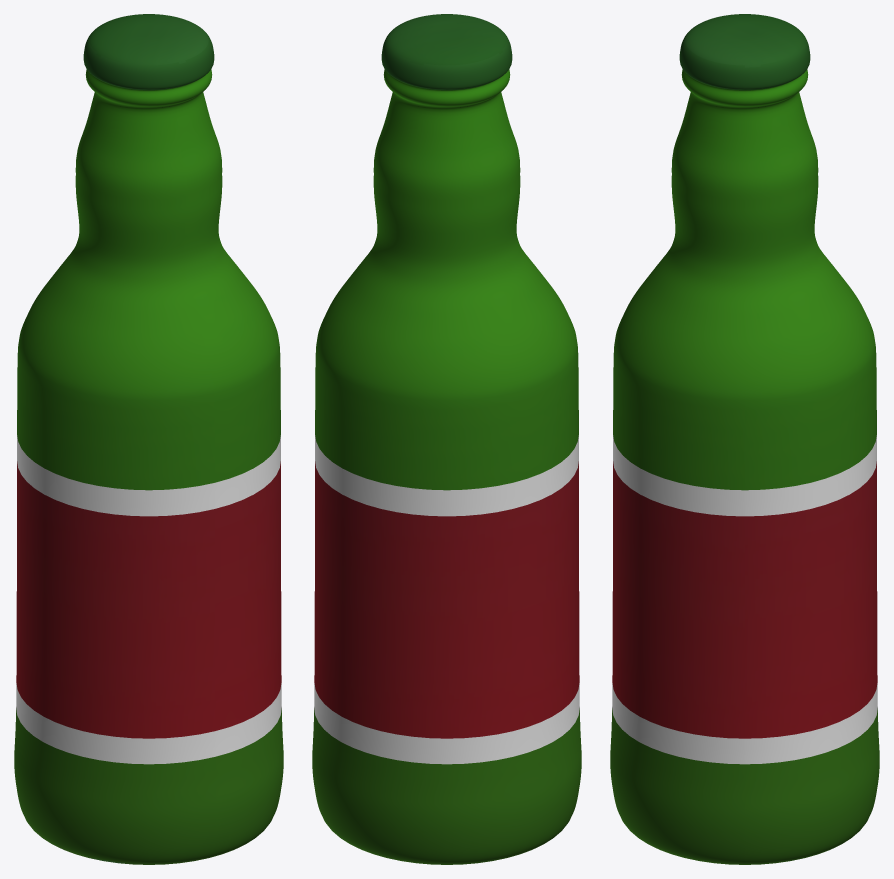
Rendered from GlassBottle2.glb.
The picture shows the model from 3 angles, left to right: view 1: azimuth 30°, elevation 25°; view 2: azimuth 150°, elevation 25°; view 3: azimuth 270°, elevation 25°; orthographic projection.
Visible parts, largest first — view 1: beer_green; view 2: beer_green; view 3: beer_green.
Part boxes in pixels (bbox=[...]): beer_green: bbox=[14, 14, 283, 864]; beer_green: bbox=[312, 14, 581, 864]; beer_green: bbox=[610, 14, 879, 864].
Bounding box in the file's own units: 0.6561 × 2.13 × 0.6561.
Materials: 1 (1 with a texture image).
